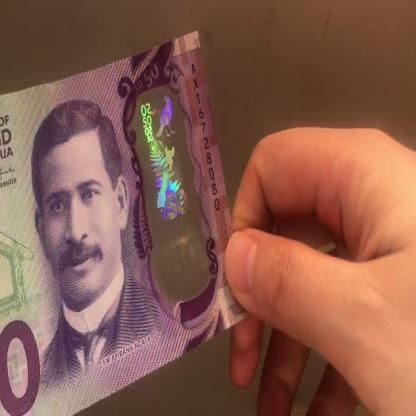50F: (137, 92, 198, 284)
